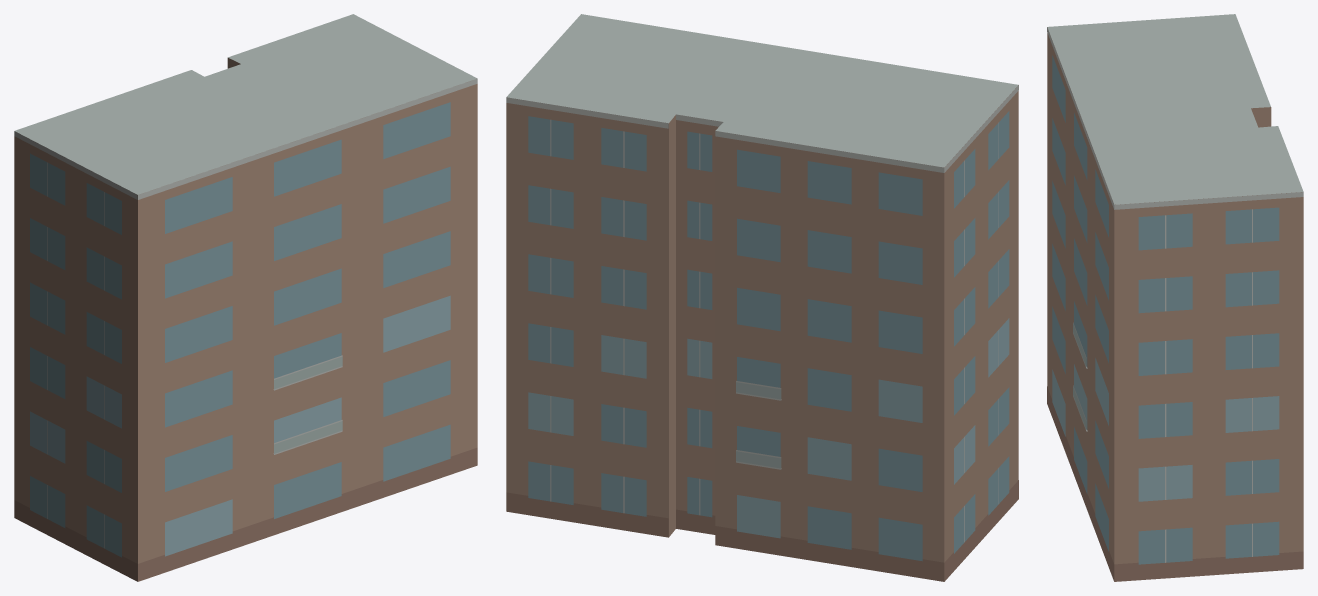
The model's file is survey-upis-32714586.glb.
The picture shows the model from 3 angles, left to right: view 1: azimuth 30°, elevation 25°; view 2: azimuth 150°, elevation 25°; view 3: azimuth 270°, elevation 25°; orthographic projection. The views are drawn at different scales.
Visible parts, largest first — view 1: survey-upis-32714586.tmp; view 2: survey-upis-32714586.tmp; view 3: survey-upis-32714586.tmp.
Part boxes in pixels (left/top/right/bottom): survey-upis-32714586.tmp: left=14, top=14, right=477, bottom=581; survey-upis-32714586.tmp: left=506, top=14, right=1018, bottom=581; survey-upis-32714586.tmp: left=1047, top=14, right=1303, bottom=581.
Size of the model in its own units: 19.87 by 18.3 by 11.29.
